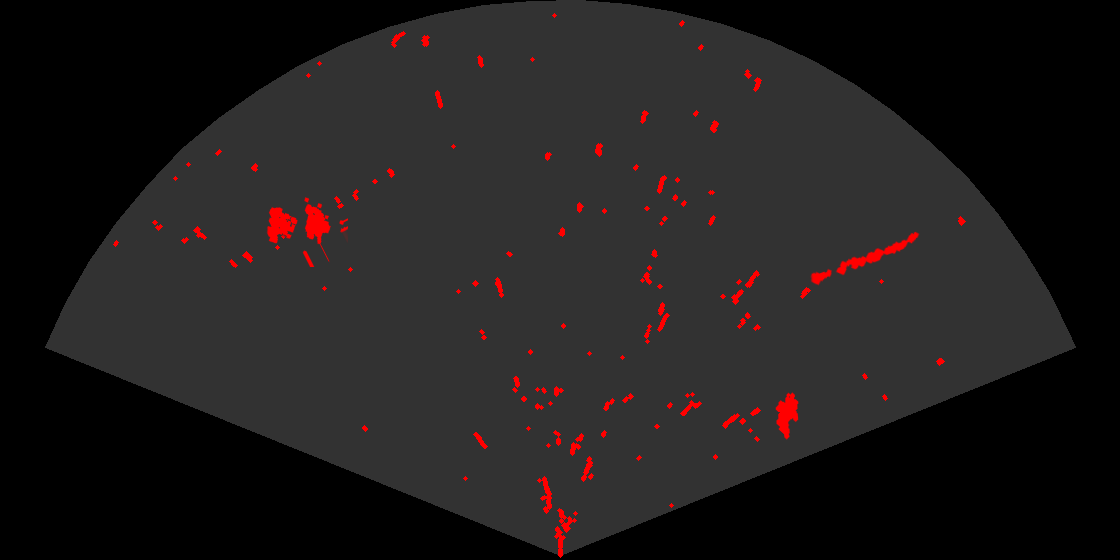AUV: (774, 391, 800, 441)
cage: (265, 196, 348, 267)
chain: (809, 230, 921, 287)
